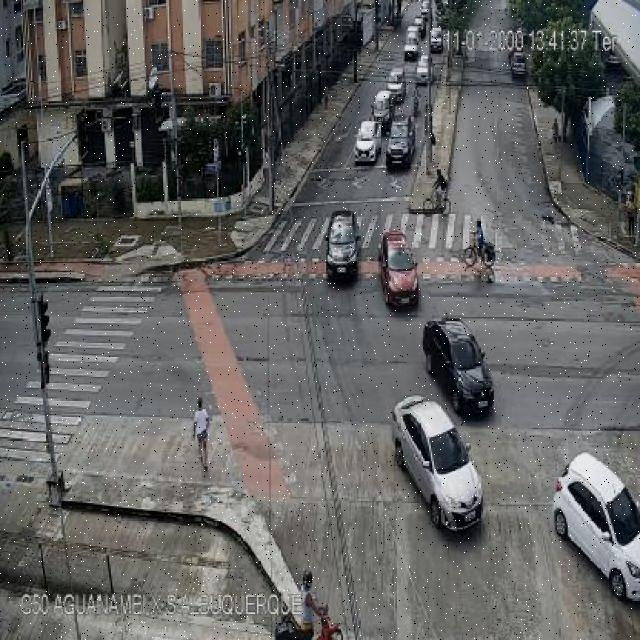Car: (550, 449, 640, 602), (392, 389, 485, 533), (424, 318, 495, 416), (378, 228, 420, 308), (324, 209, 360, 283), (386, 116, 416, 169), (353, 120, 382, 164), (372, 90, 397, 125), (386, 67, 406, 99), (510, 51, 528, 78), (404, 25, 422, 51), (416, 55, 432, 82), (429, 26, 443, 52), (420, 0, 431, 19)
Cycle: (464, 221, 495, 278), (423, 168, 451, 212)
